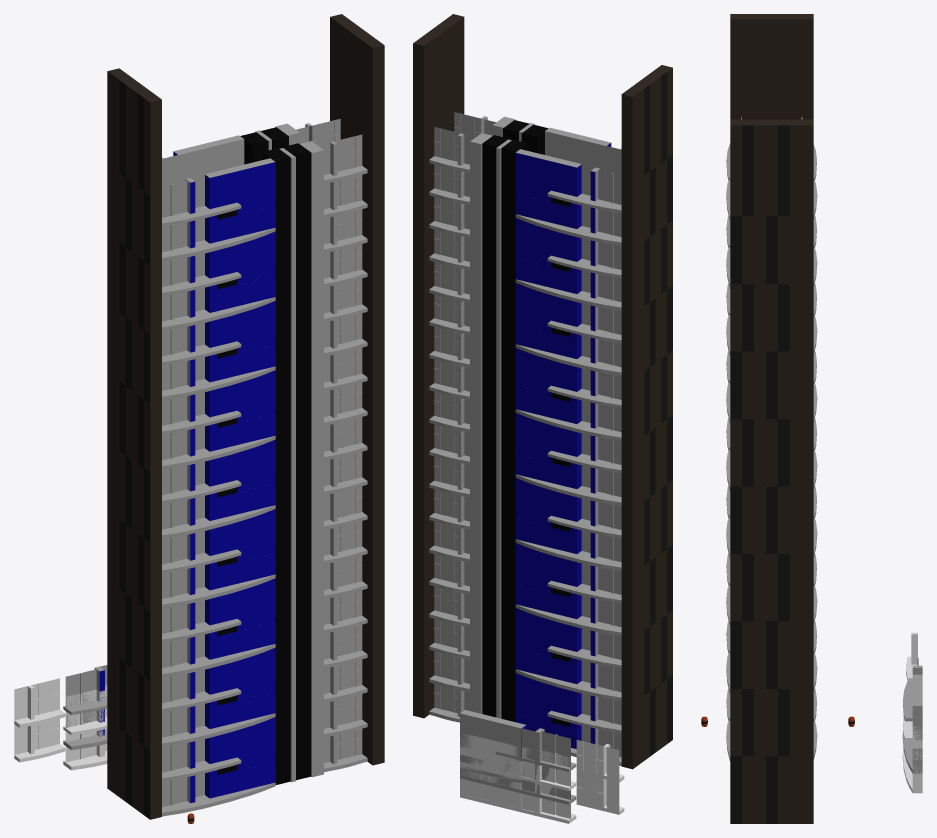
Rendered from buildingWithBarrel.dae.
3 views of the same model, side by side, from view 1: azimuth 30°, elevation 25°; view 2: azimuth 150°, elevation 25°; view 3: azimuth 270°, elevation 25° (orthographic). The views are drawn at different scales.
Visible parts, largest first — view 1: Cube_004, Cube_005, Plane_001, Cube_006, Cube_000; view 2: Cube_004, Cube_005, Cube_000, Cube_006, Plane_001; view 3: Cube_005, Cube_004, Cube_006, Cube_000.
Boxes of the visible parts, x1,y1,x2,y2 form: Cube_004: (162,119,367,816); Cube_005: (107,14,384,819); Plane_001: (14,678,65,762); Cube_006: (63,665,107,750); Cube_000: (63,685,107,770); Cube_004: (429,112,621,765); Cube_005: (413,14,672,769); Cube_000: (460,734,576,823); Cube_006: (460,710,576,804); Plane_001: (576,740,624,814); Cube_005: (730,14,813,823); Cube_004: (726,117,817,761); Cube_006: (902,657,922,773); Cube_000: (902,715,922,793).
Size of what is drawn, in the model's own units: 25.21 by 64.89 by 18.14.
